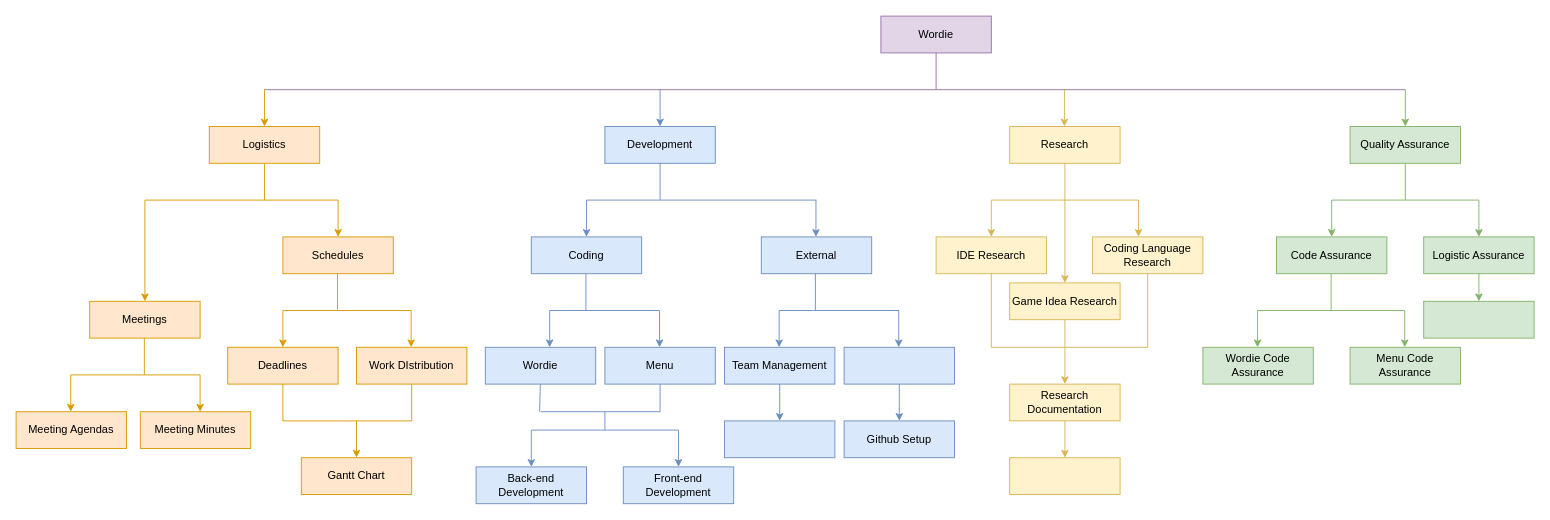
Image size: 1550x520. Some labels were removed from this diagram. Here are the shapes that lost their labels. From the top down, the box of each, then its label:
(1423, 300, 1534, 338): Document Assurance
(843, 346, 954, 384): Team Storage
(724, 420, 835, 458): Trello Setup
(1009, 457, 1120, 494): Finalise Game Idea
